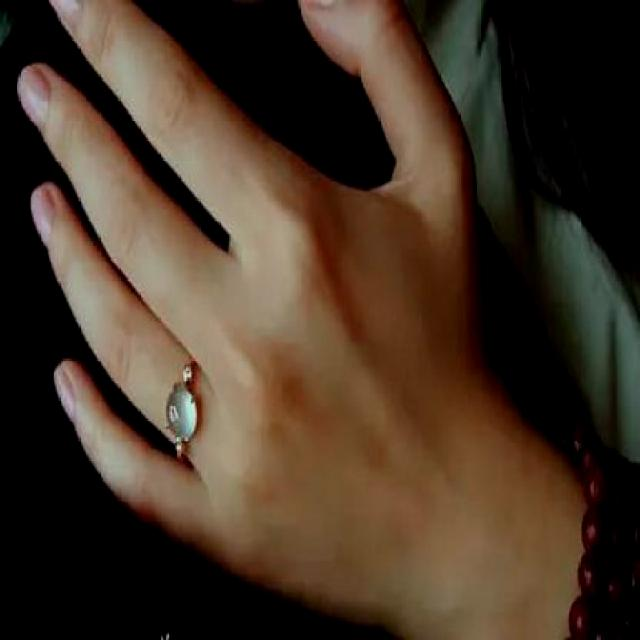hand_noglove: (15, 0, 487, 603)
